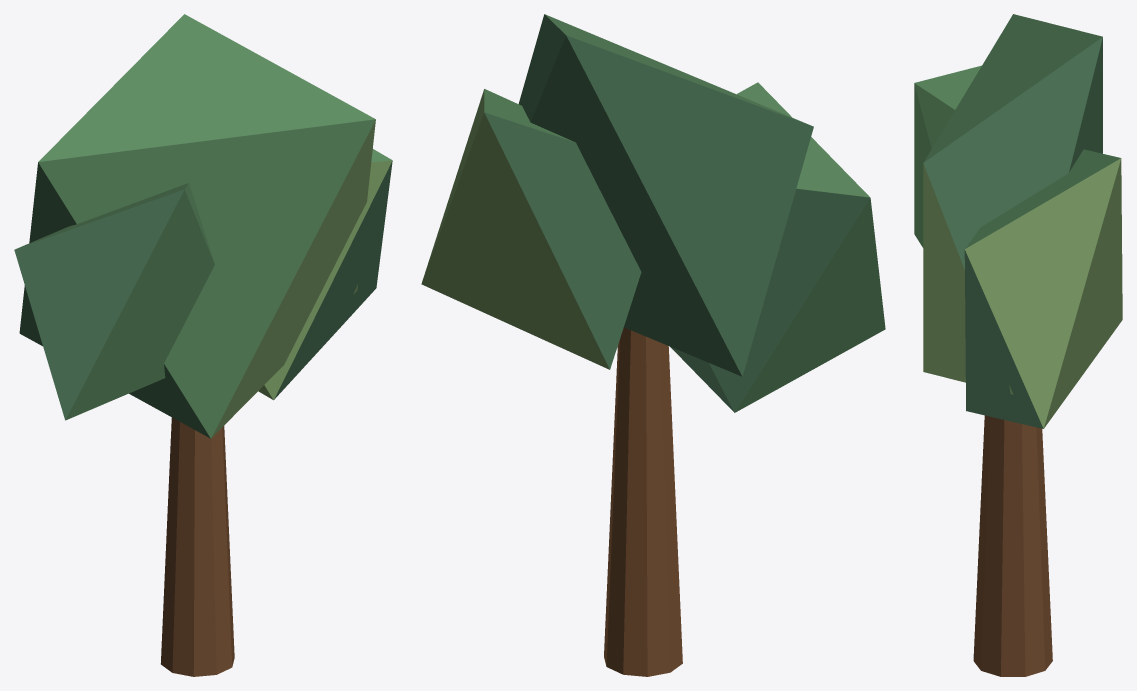
The model's file is TreeLOD2.glb.
3 renders of one model, left to right at view 1: azimuth 30°, elevation 25°; view 2: azimuth 150°, elevation 25°; view 3: azimuth 270°, elevation 25°, orthographic. The views are drawn at different scales.
Visible parts, largest first — view 1: Tree; view 2: Tree; view 3: Tree.
Part boxes in pixels (x1,y1,x2,y2): Tree: [14, 14, 392, 676]; Tree: [421, 14, 885, 676]; Tree: [914, 14, 1122, 676].
Bounding box in the file's own units: 3.11 × 4.62 × 1.37.
